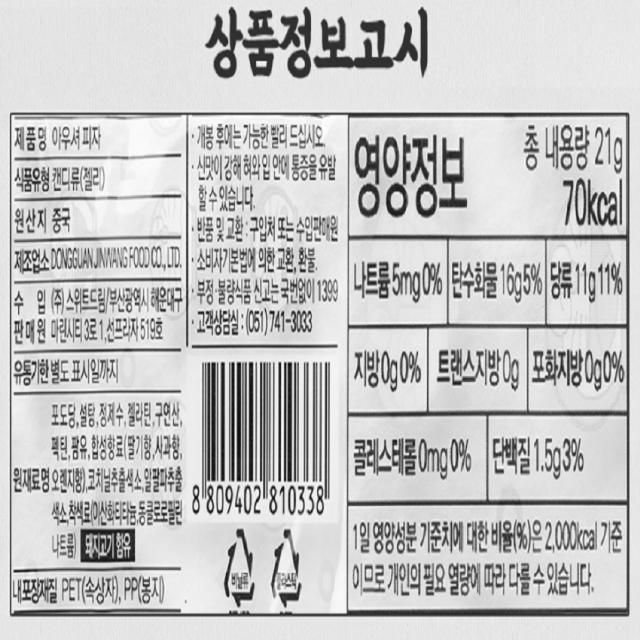Nutrition Label: (343, 106, 640, 608)
